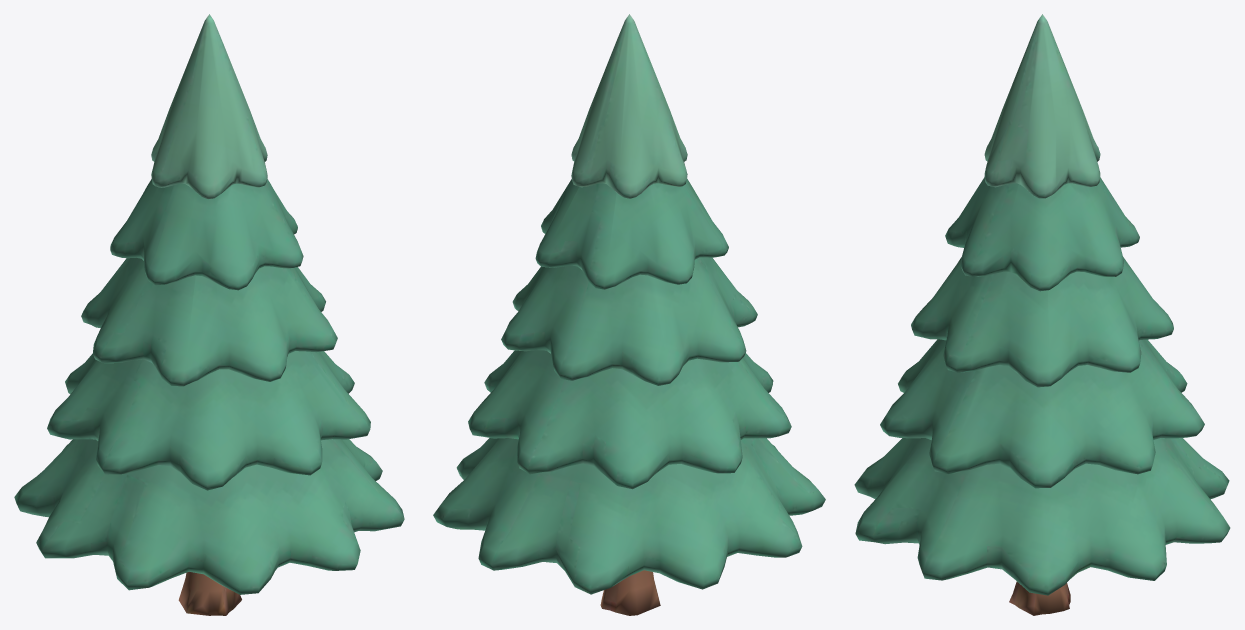
File: pine-tree.glb
3 renders of one model, left to right at view 1: azimuth 30°, elevation 25°; view 2: azimuth 150°, elevation 25°; view 3: azimuth 270°, elevation 25°, orthographic.
Parts seen in each view (by area): view 1: pine-tree_body; view 2: pine-tree_body; view 3: pine-tree_body.
Boxes of the visible parts, left/top/right/bottom form: pine-tree_body: left=14, top=14, right=404, bottom=615; pine-tree_body: left=433, top=14, right=825, bottom=615; pine-tree_body: left=854, top=14, right=1230, bottom=615.
Bounding box in the file's own units: 3.45 × 5.7 × 3.3.
Materials: 1 (1 with a texture image).
